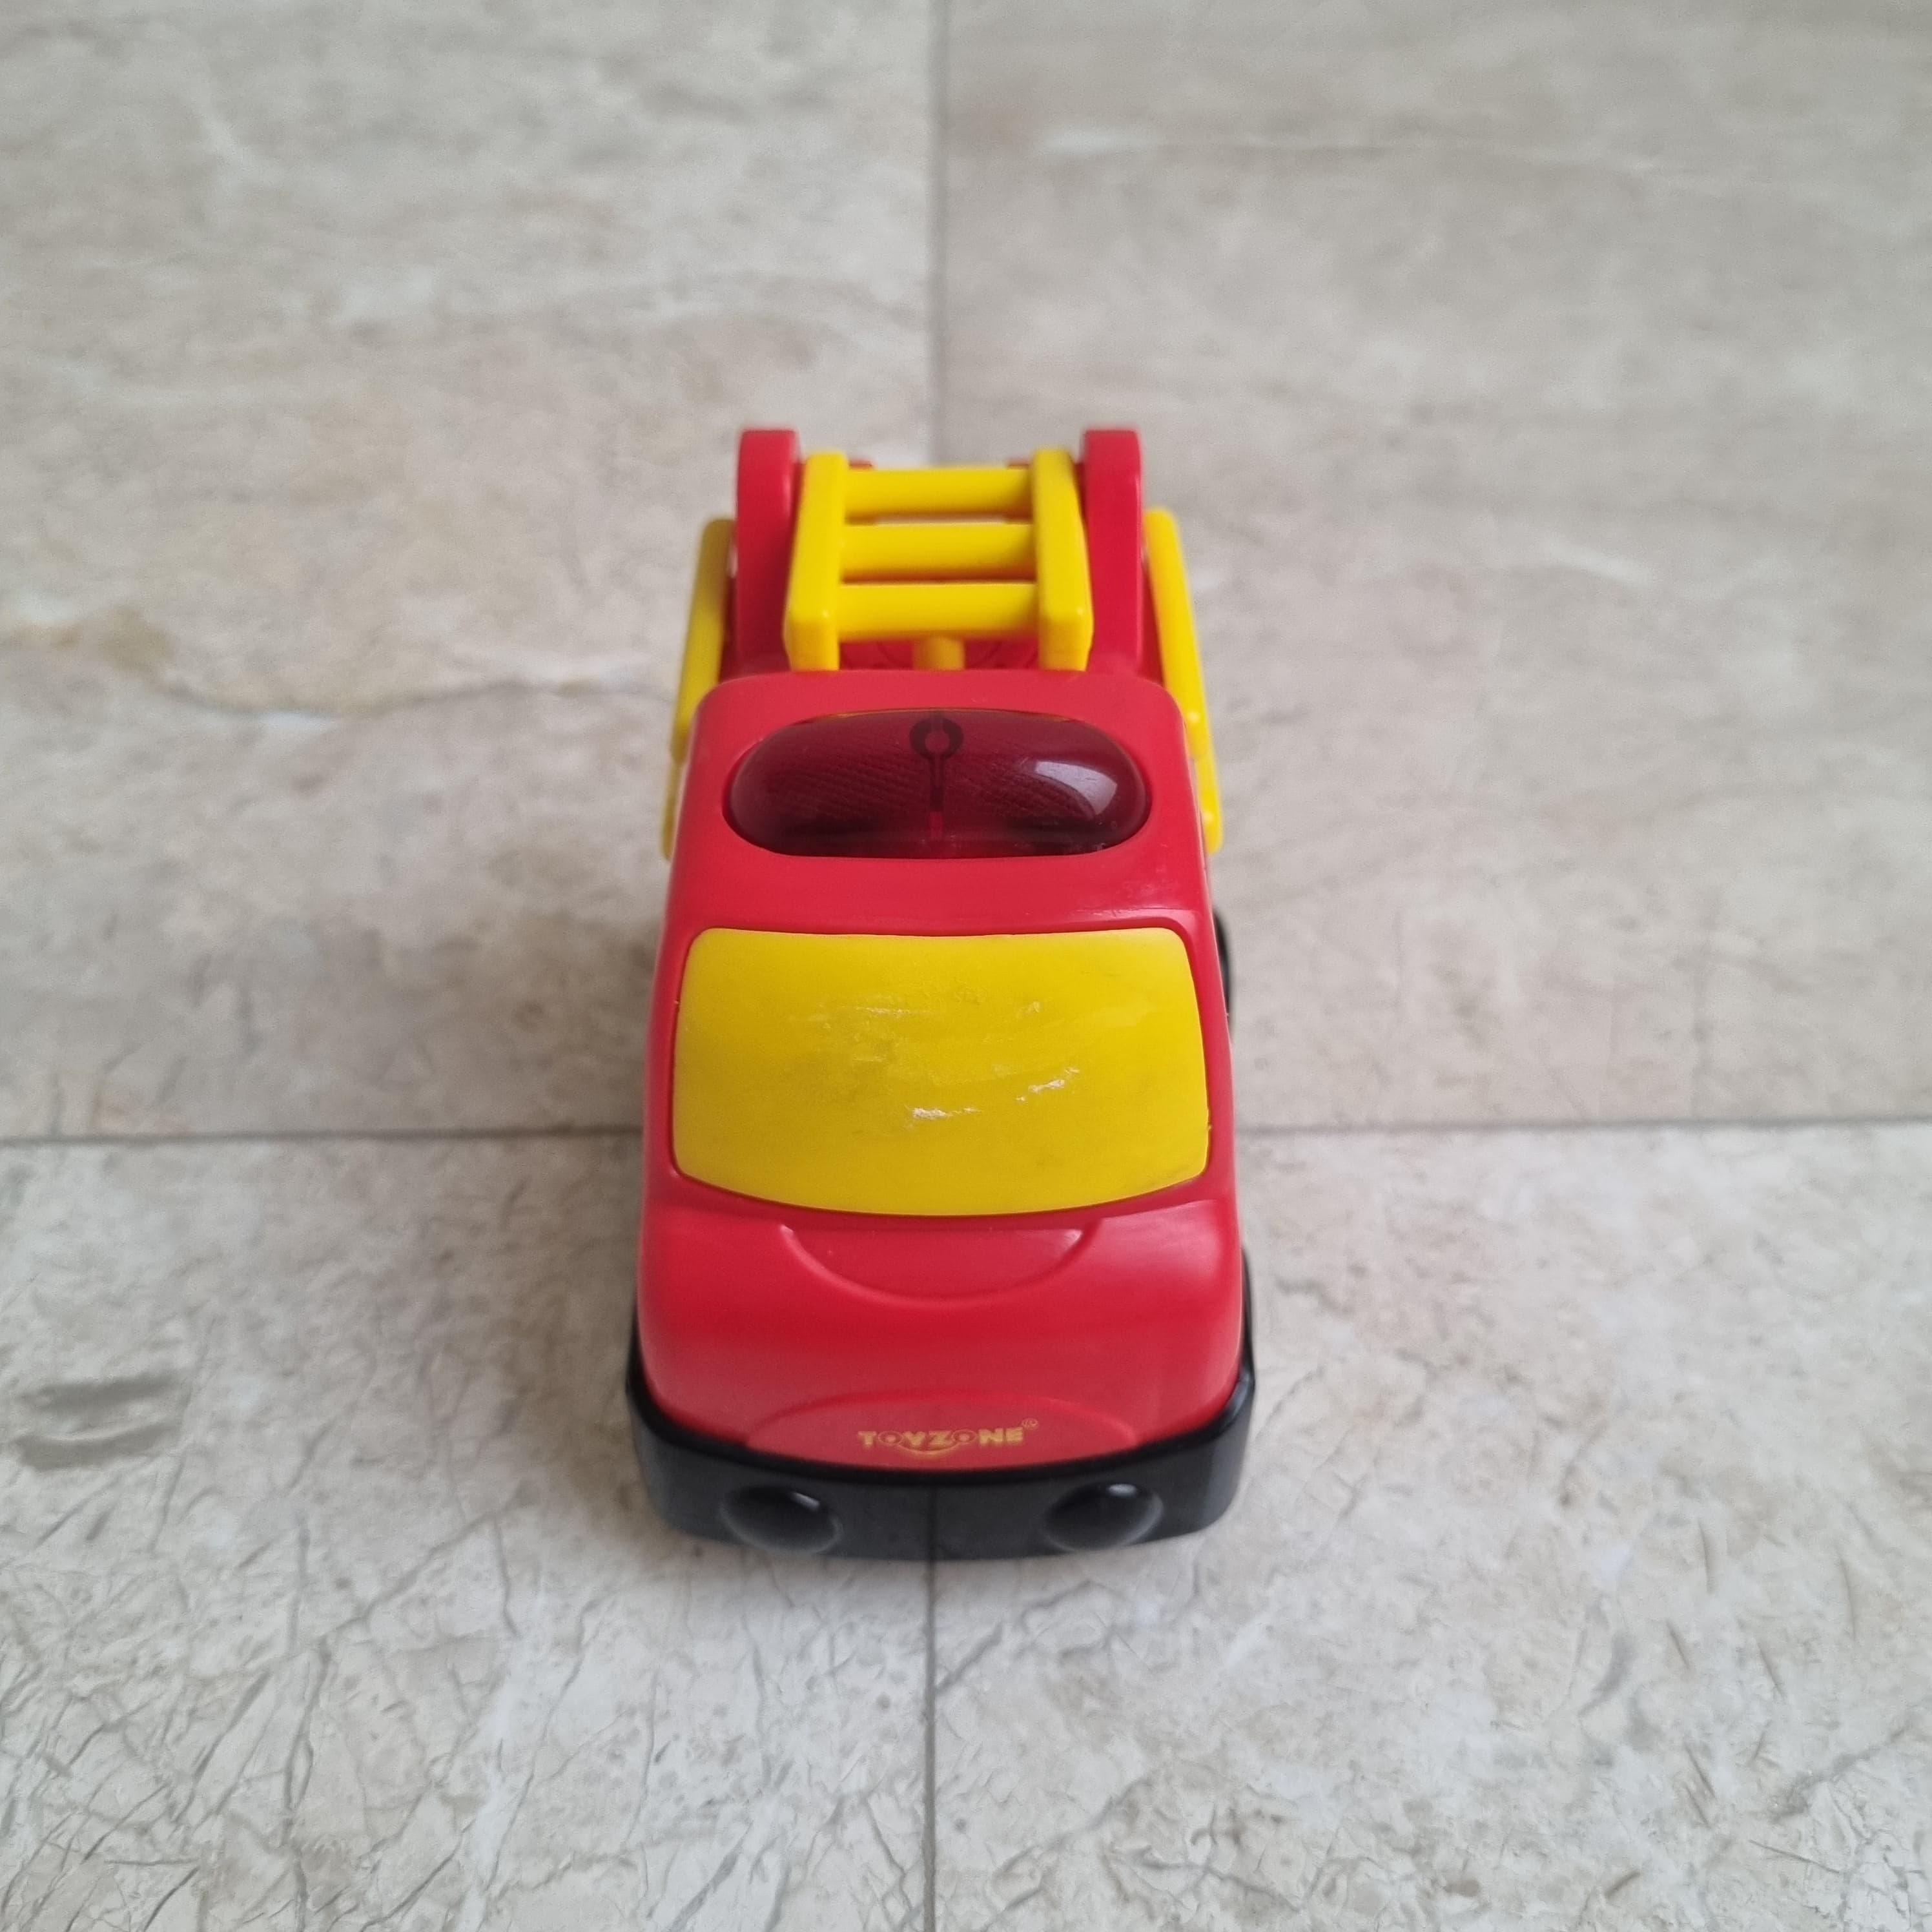firetruck_off: (626, 410, 1256, 1562)
